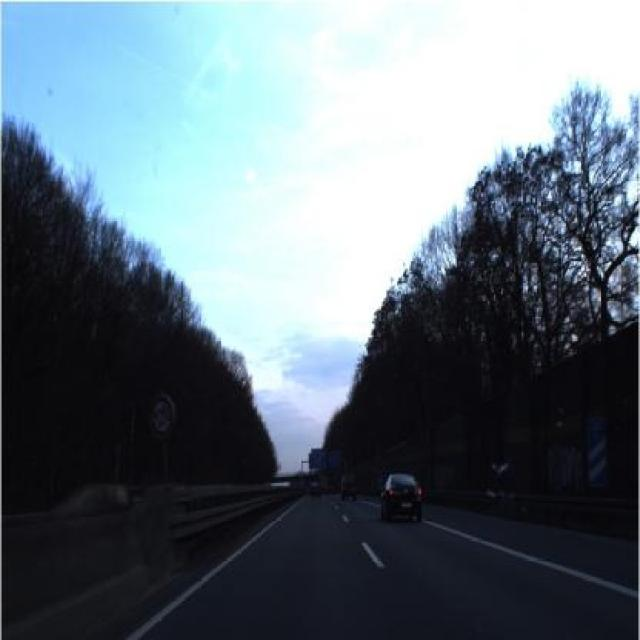forb_speed_over_120: (148, 389, 179, 442)
